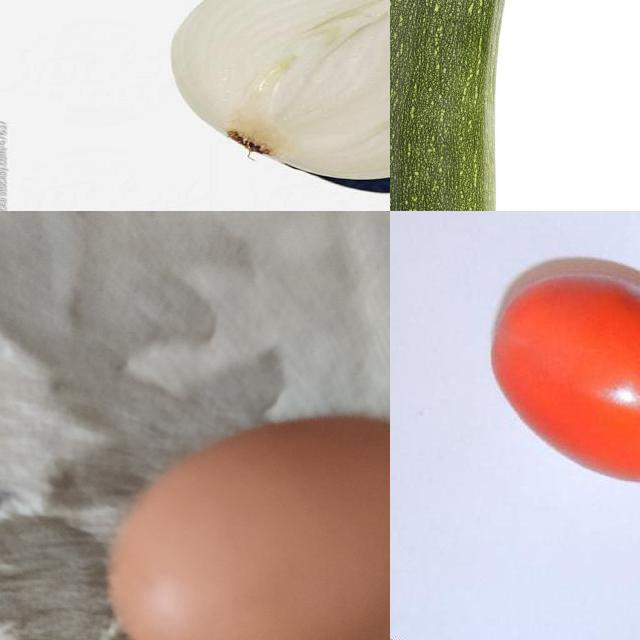egg: (92, 404, 391, 640)
onion: (170, 1, 391, 189)
tomato: (477, 259, 640, 507)
zucchini: (391, 1, 513, 212)
